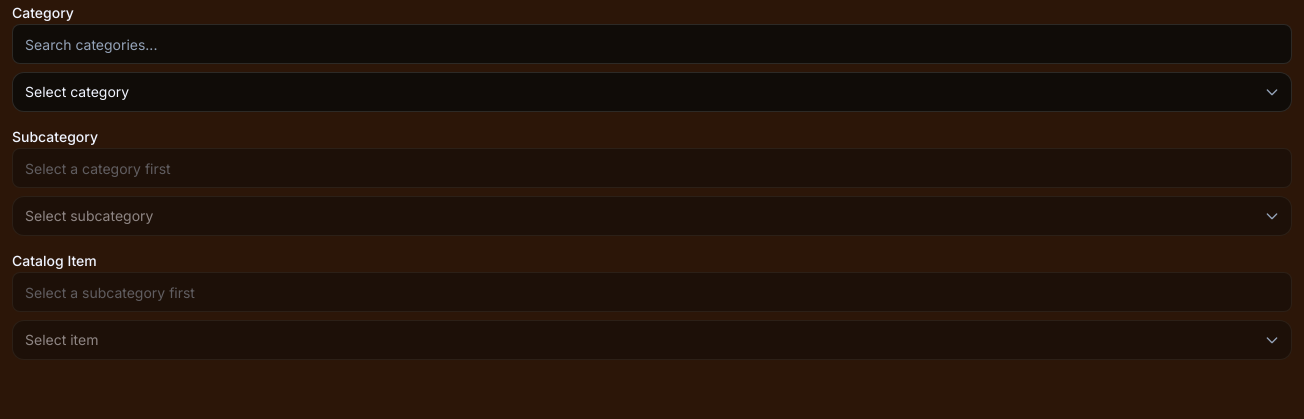
Scenario: CanonicalTaxonomyPicker (F-07) › selecting a category enables subcategories and reports the pick
Select "Steel & Metals" in the dropdown labelled "Category". click: (652,92)
box: x1=12 y1=72 x2=1292 y2=112
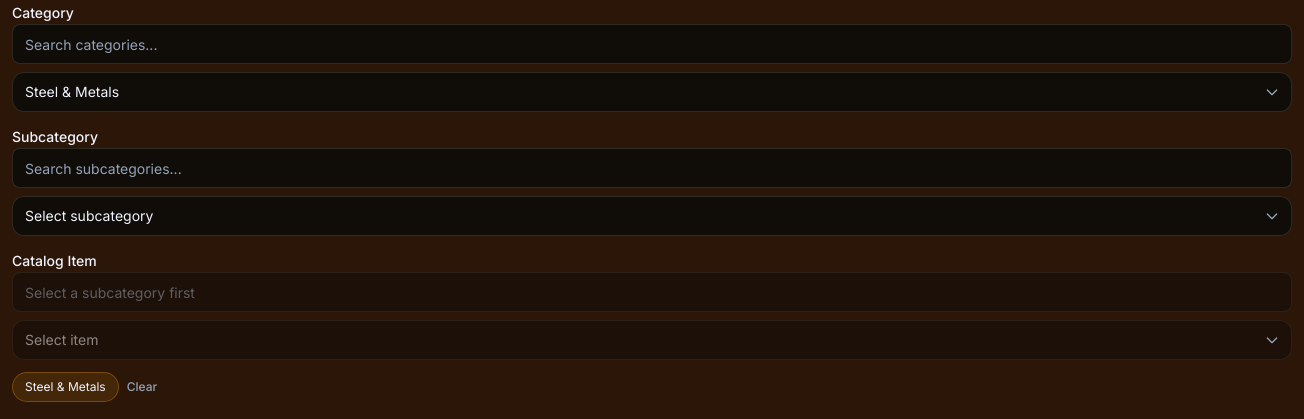
Check: the dropdown labelled "Subcategory" is enabled, box x1=12 y1=196 x2=1292 y2=236
